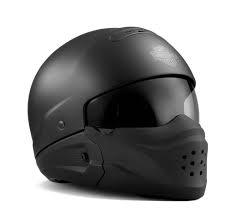helmet: (25, 20, 213, 206)
